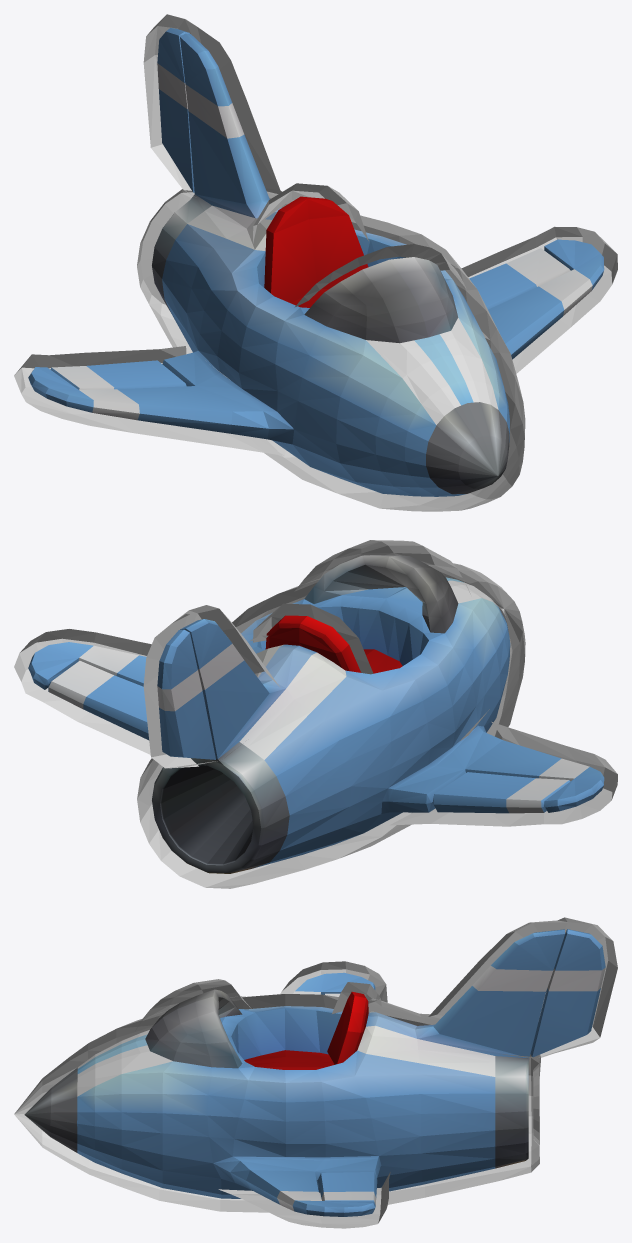
File: Airplane_default_outline.glb
The picture shows the model from 3 angles, top to bottom: view 1: azimuth 30°, elevation 25°; view 2: azimuth 150°, elevation 25°; view 3: azimuth 270°, elevation 25°; orthographic projection. The views are drawn at different scales.
Visible parts, largest first — view 1: airplane_outline; view 2: airplane_outline; view 3: airplane_outline.
Boxes of the visible parts, box(x1,y1,x2,y2) form: airplane_outline: box(14, 14, 617, 511); airplane_outline: box(14, 540, 617, 888); airplane_outline: box(14, 917, 617, 1228).
Bounding box in the file's own units: 0.9569 × 0.5136 × 0.9883.
